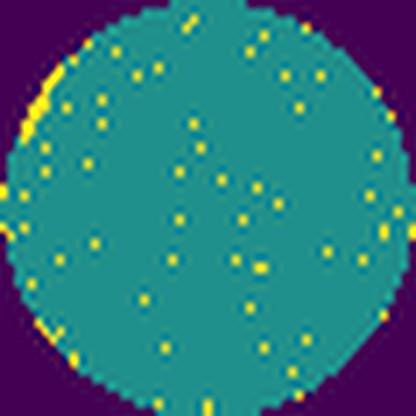Edge-Loc: (20, 63, 66, 143)
